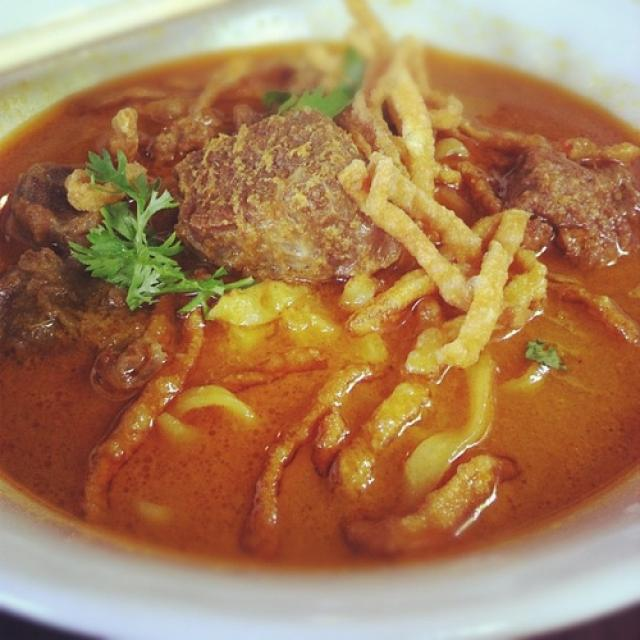面条主食: (36, 26, 605, 592)
